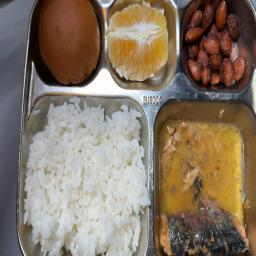100_bread: (33, 3, 101, 87)
100_nuts: (183, 1, 246, 90)
100_orange: (105, 3, 172, 86)
100_rice: (25, 92, 148, 256)
25_fish: (156, 104, 253, 256)
